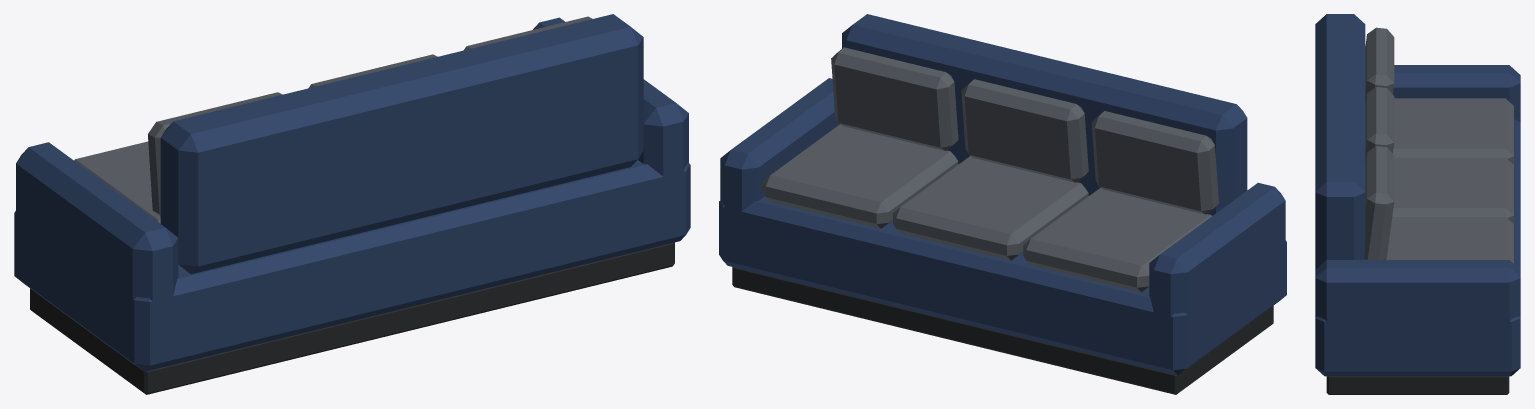
File: sofa.glb
3 views of the same model, side by side, from view 1: azimuth 30°, elevation 25°; view 2: azimuth 150°, elevation 25°; view 3: azimuth 270°, elevation 25° (orthographic). The views are drawn at different scales.
Parts seen in each view (by area): view 1: sofa; view 2: sofa; view 3: sofa.
Part boxes in pixels (x1,y1,x2,y2): sofa: [14, 14, 690, 394]; sofa: [719, 14, 1286, 394]; sofa: [1315, 14, 1520, 394].
Bounding box in the file's own units: 2.2 × 0.95 × 0.9.
